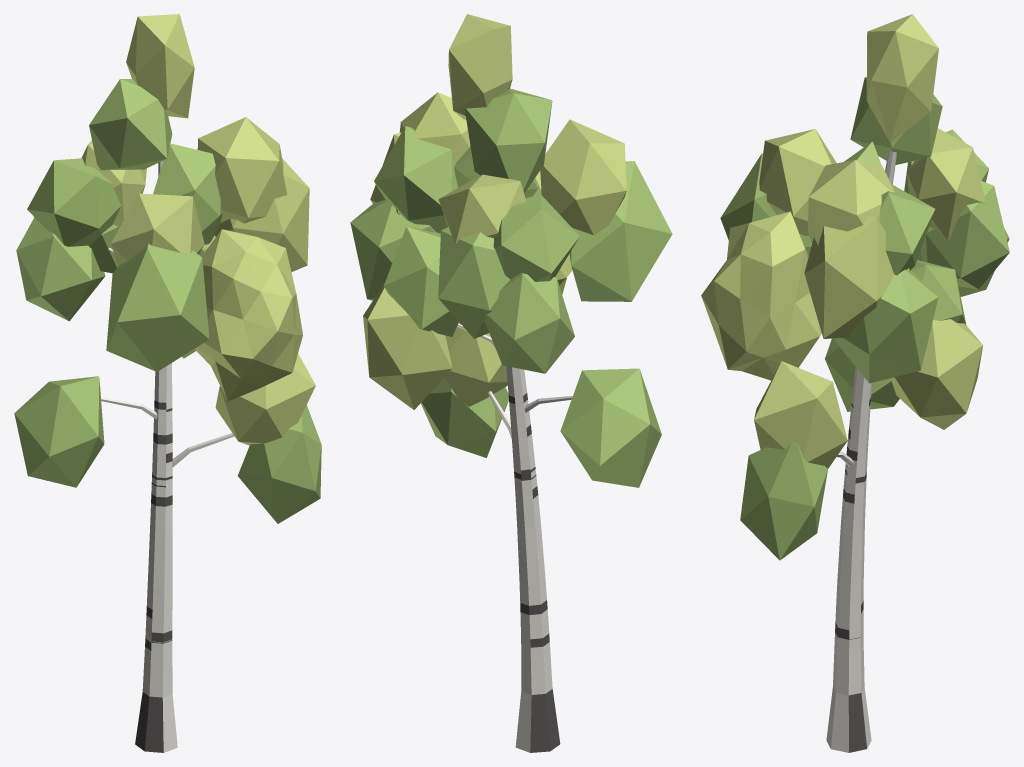
The model's file is birch.glb.
The picture shows the model from 3 angles, left to right: view 1: azimuth 30°, elevation 25°; view 2: azimuth 150°, elevation 25°; view 3: azimuth 270°, elevation 25°; orthographic projection. The views are drawn at different scales.
Parts seen in each view (by area): view 1: Birch; view 2: Birch; view 3: Birch.
Boxes of the visible parts, left/top/right/bottom form: Birch: left=14, top=14, right=321, bottom=752; Birch: left=350, top=14, right=672, bottom=752; Birch: left=701, top=14, right=1009, bottom=752.
Size of the model in its own units: 3.15 by 7.7 by 2.93.
